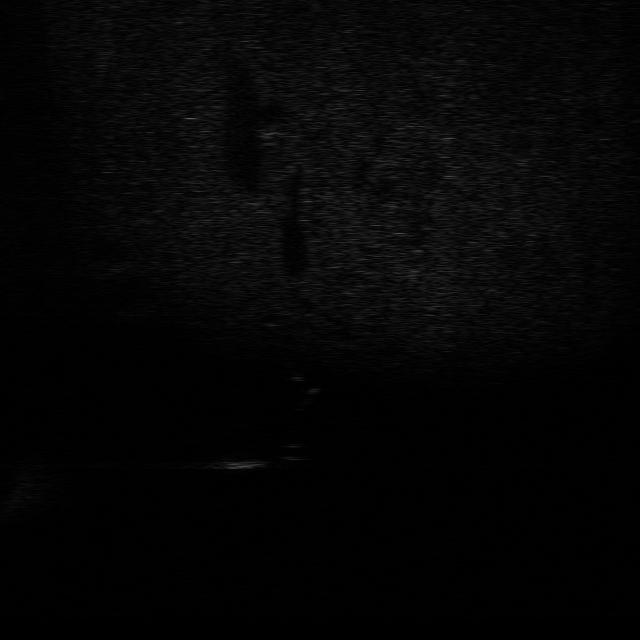ball: (275, 442, 315, 463)
human body: (279, 352, 320, 416)
square cage: (207, 448, 265, 475)
